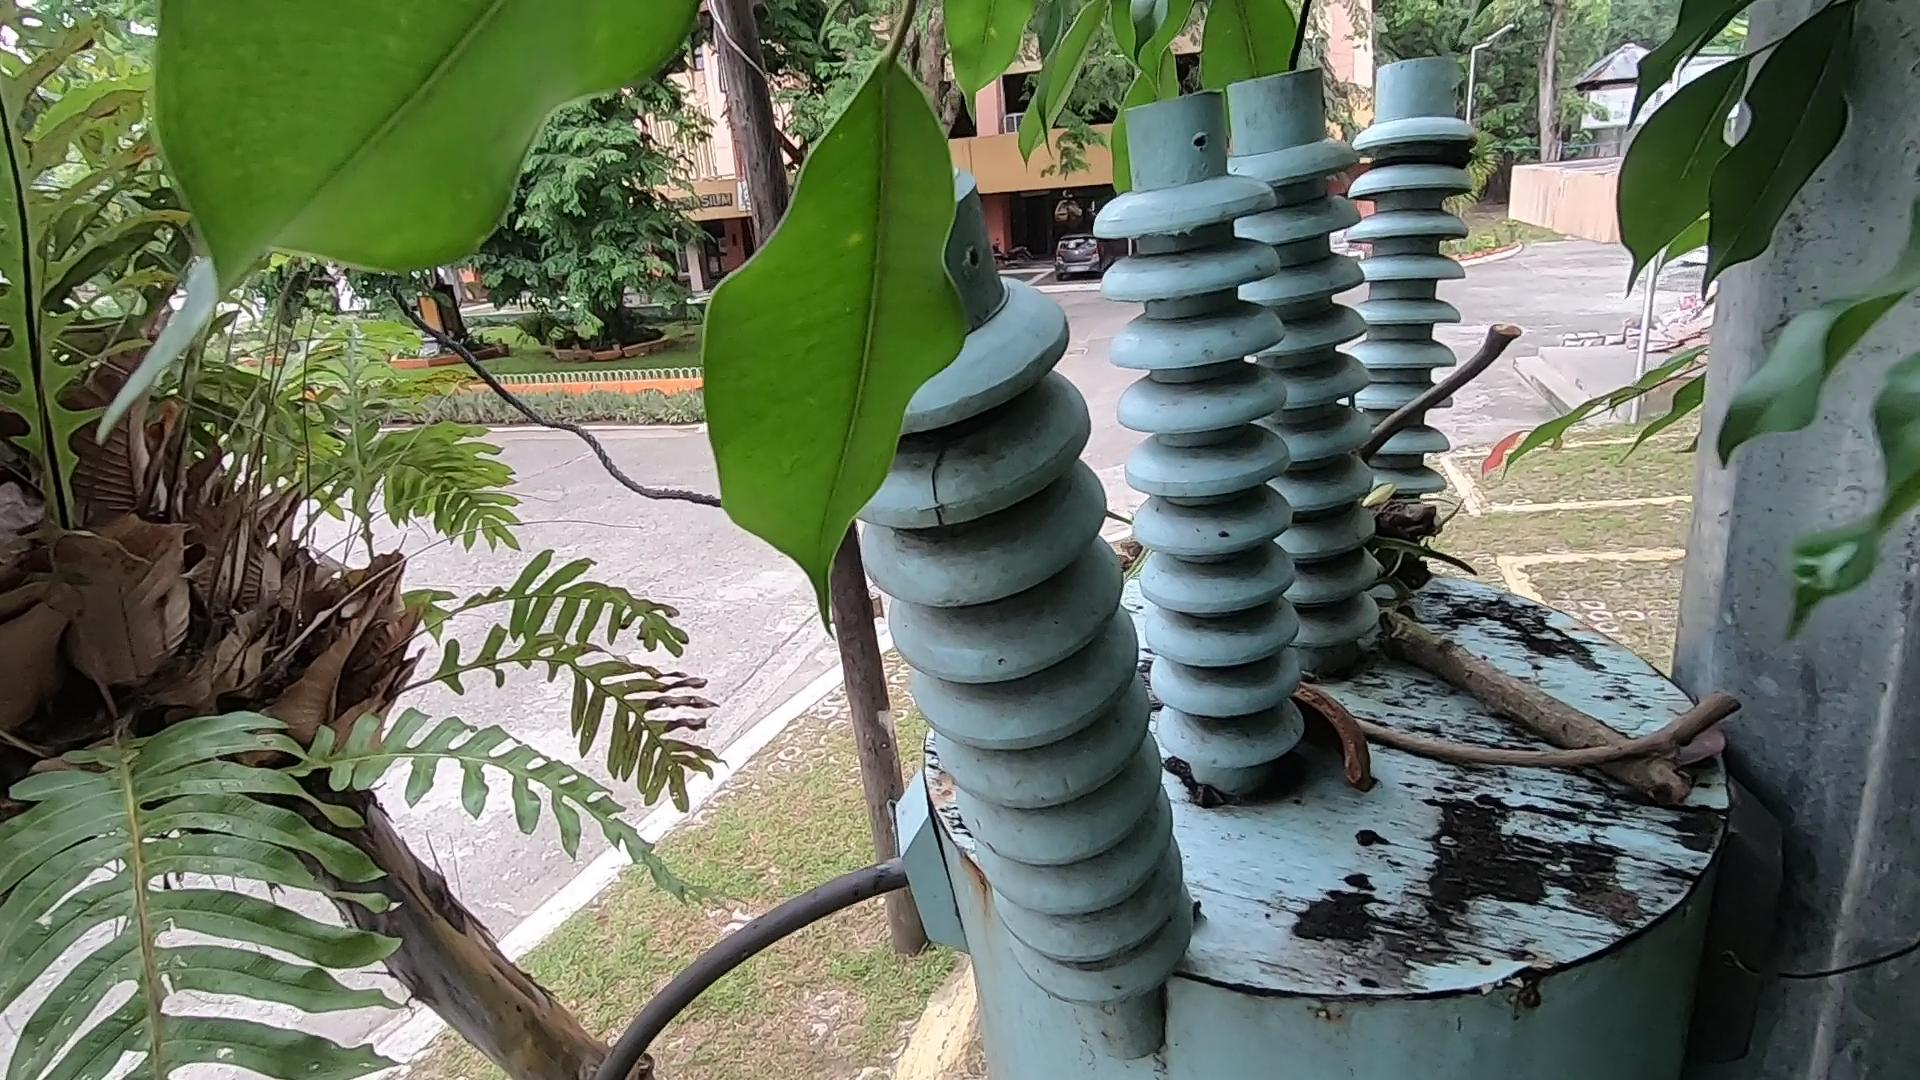branch with leaves: (1364, 421, 1716, 799)
leaf: (1647, 657, 1768, 814)
mahogany fruit: (1287, 655, 1379, 828)
tree branch: (1353, 149, 1633, 501), (1391, 727, 1807, 807)
